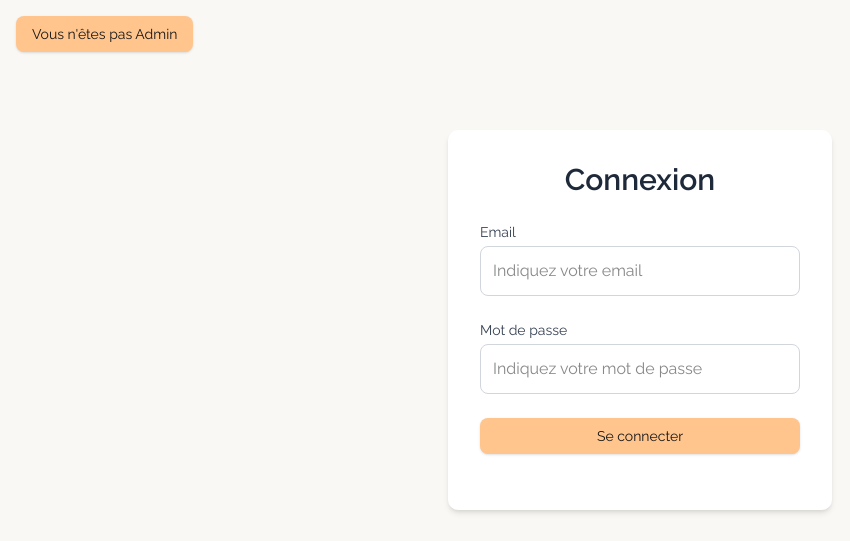
Scenario: Login › shows error message on login failure
Type "admin@test.com" into the field labelled "Email".
click(640, 271); type("admin@test.com")  # box [480, 246, 800, 296]
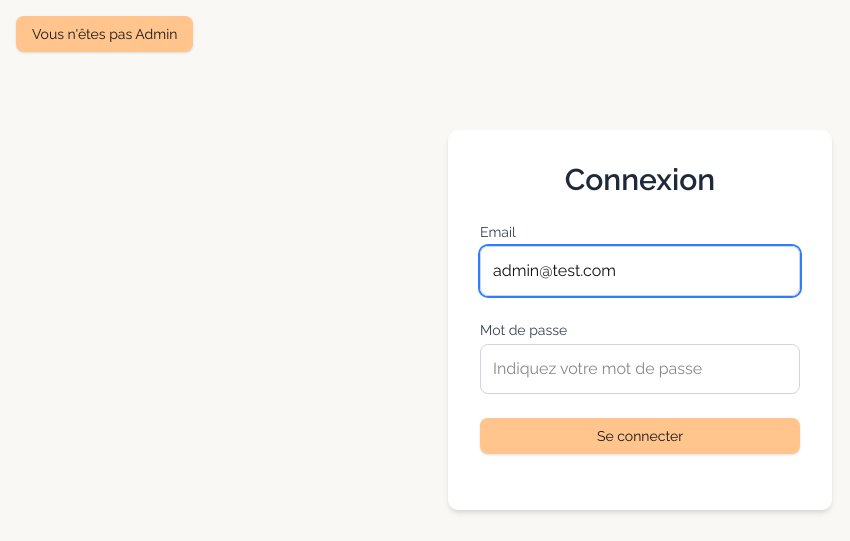
Type "wrong" into the password field labelled "Mot de passe".
click(640, 369); type("wrong")  # box [480, 344, 800, 394]
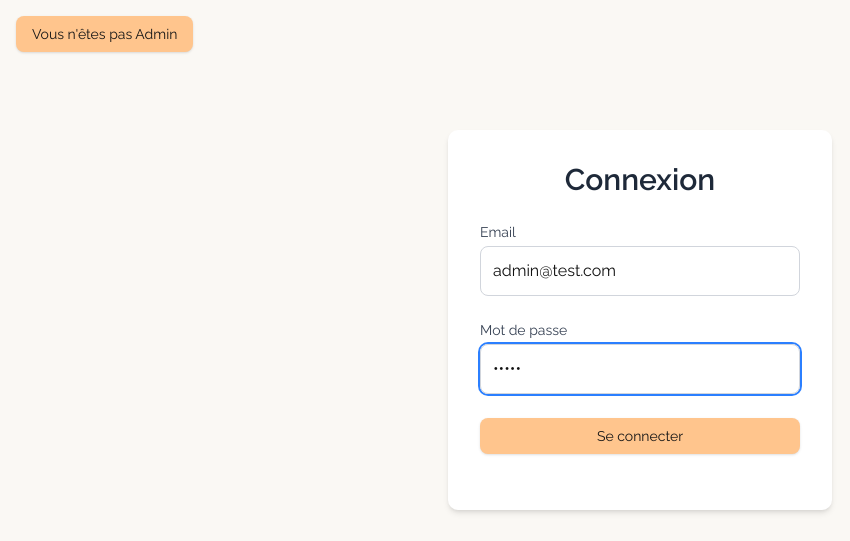
Click the button "Se connecter".
click(640, 436)  # box [480, 418, 800, 454]
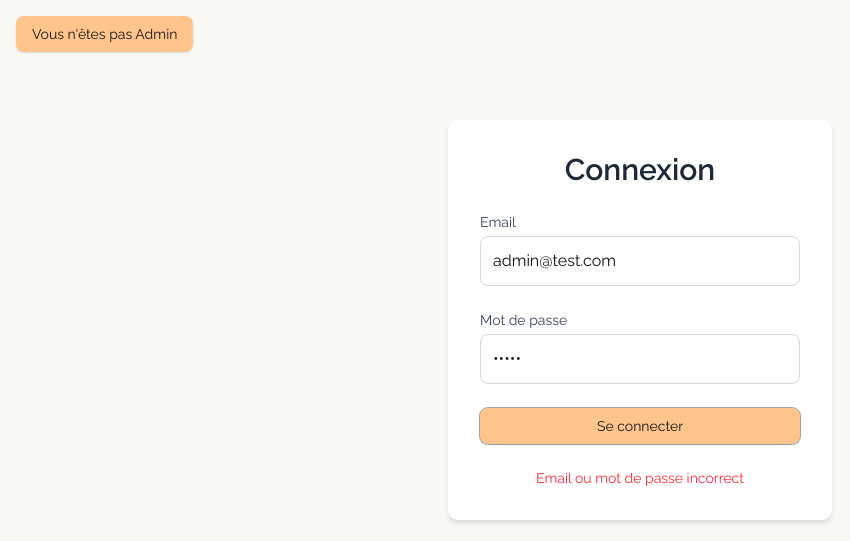
Expected: the text "Email ou mot de passe incorrect" is shown, [536, 470, 744, 486]
